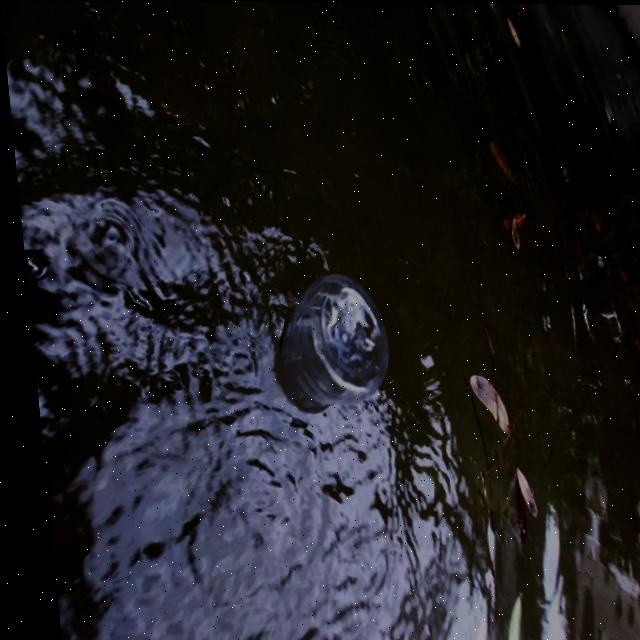leaf: (439, 366, 538, 544), (468, 109, 532, 254), (16, 217, 60, 324)
waterbottle: (215, 275, 420, 451)
